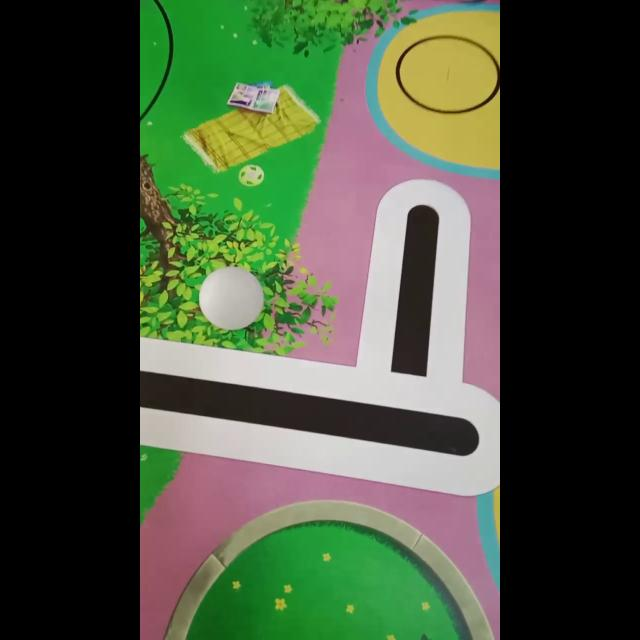white ball: (198, 265, 264, 331)
